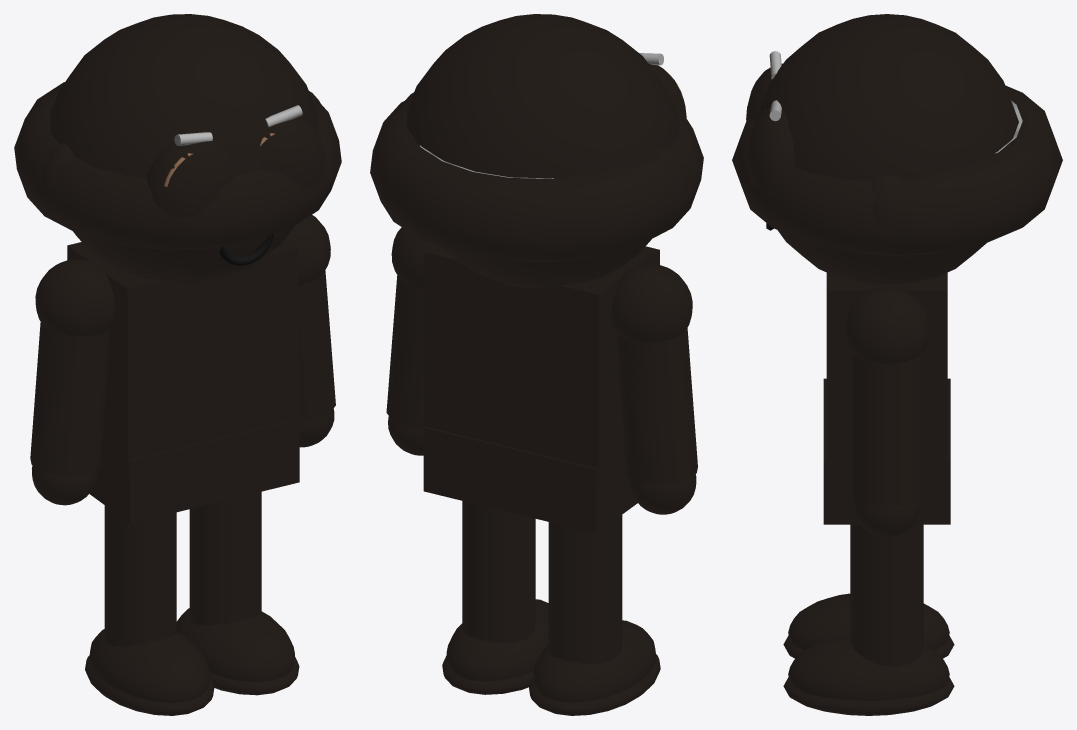
File: velho.glb
3 views of the same model, side by side, from view 1: azimuth 30°, elevation 25°; view 2: azimuth 150°, elevation 25°; view 3: azimuth 270°, elevation 25° (orthographic).
Visible parts, largest first — view 1: malha__contorno (×19), malha__semsombra; view 2: malha__contorno (×18); view 3: malha__contorno (×14).
Part boxes in pixels (x1,y1,x2,y2): malha__contorno (×19): (14,14,341,715); malha__semsombra: (219,234,273,265); malha__contorno (×18): (370,14,703,715); malha__contorno (×14): (732,14,1062,715).
Size of the model in its own units: 0.6611 by 1.4 by 0.6384.
Materials: 18 (8 with a texture image).
